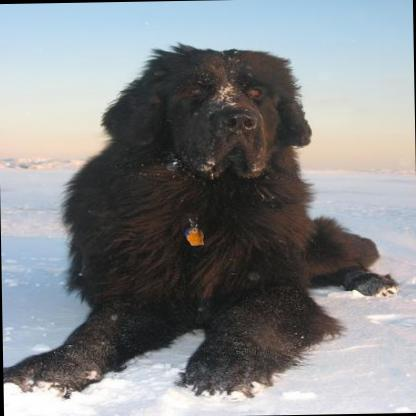Newfoundland: (0, 34, 397, 399)
